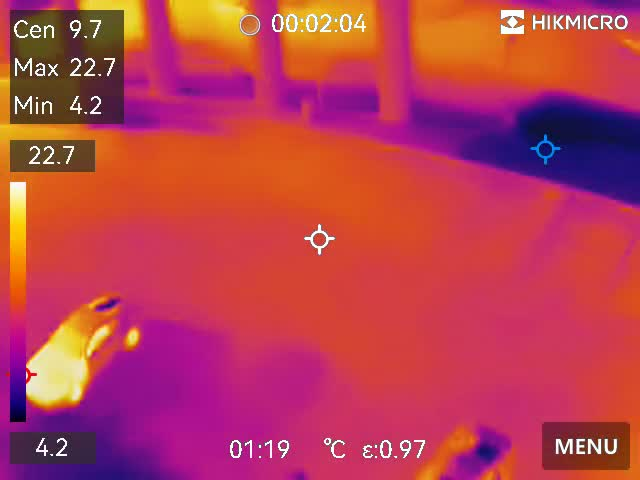vehicle: (19, 280, 148, 416), (405, 418, 527, 480)
